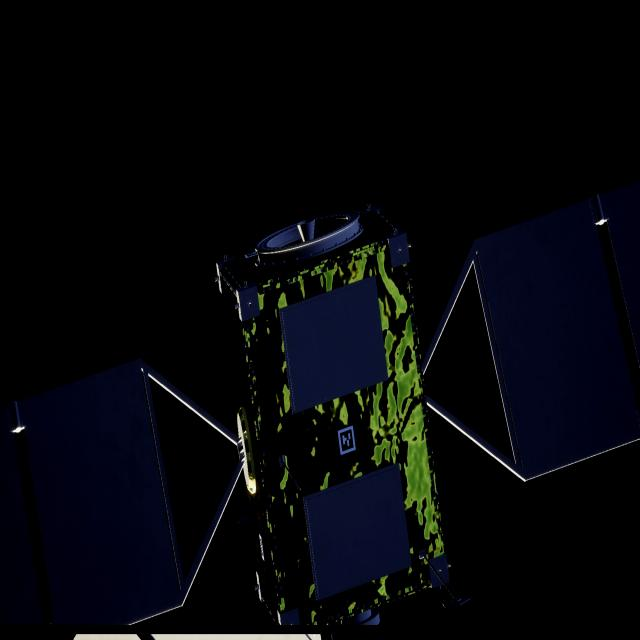satellite: (0, 182, 640, 632)
